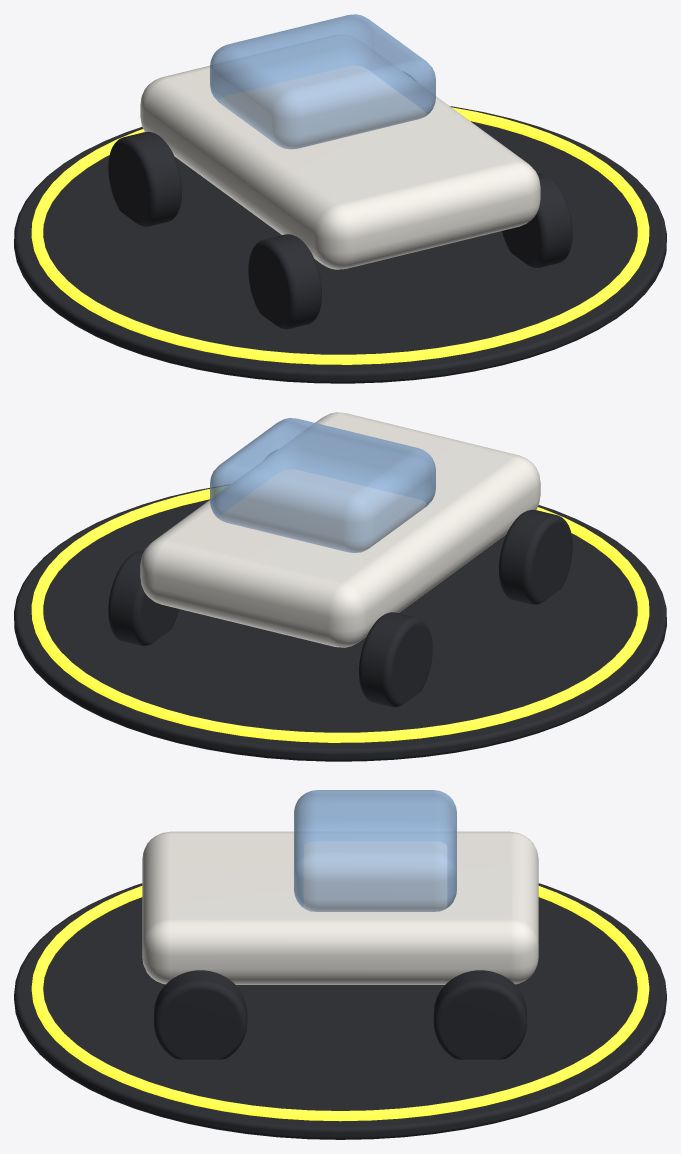
Rendered from lunar_moon_base__rover_pad.glb.
3 views of the same model, one above another, from view 1: azimuth 30°, elevation 25°; view 2: azimuth 150°, elevation 25°; view 3: azimuth 270°, elevation 25° (orthographic).
Parts seen in each view (by area): view 1: Set; view 2: Set; view 3: Set.
Boxes of the visible parts, x1=… form: Set: x1=14, y1=14, x2=666, y2=383; Set: x1=14, y1=412, x2=666, y2=761; Set: x1=14, y1=790, x2=666, y2=1139.
Bounding box in the file's own units: 2.8 × 0.86 × 2.8.
